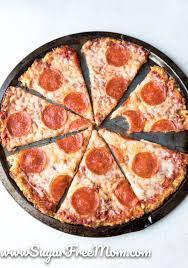pizza: (5, 42, 188, 224)
